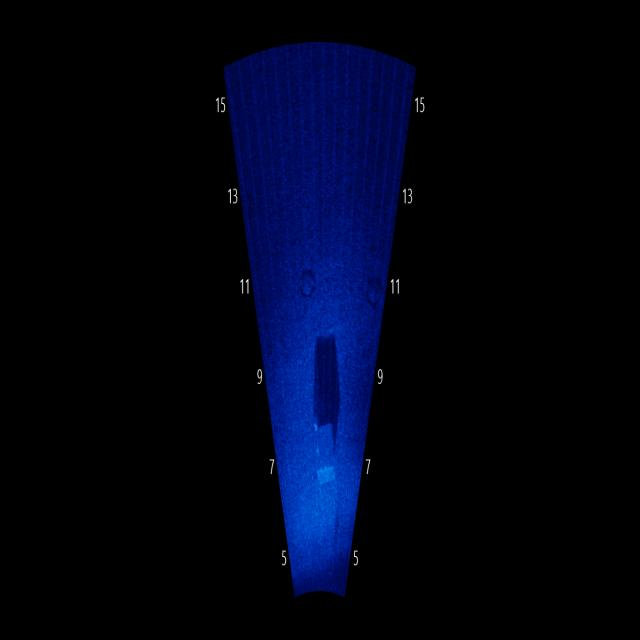square: (308, 422, 346, 498)
